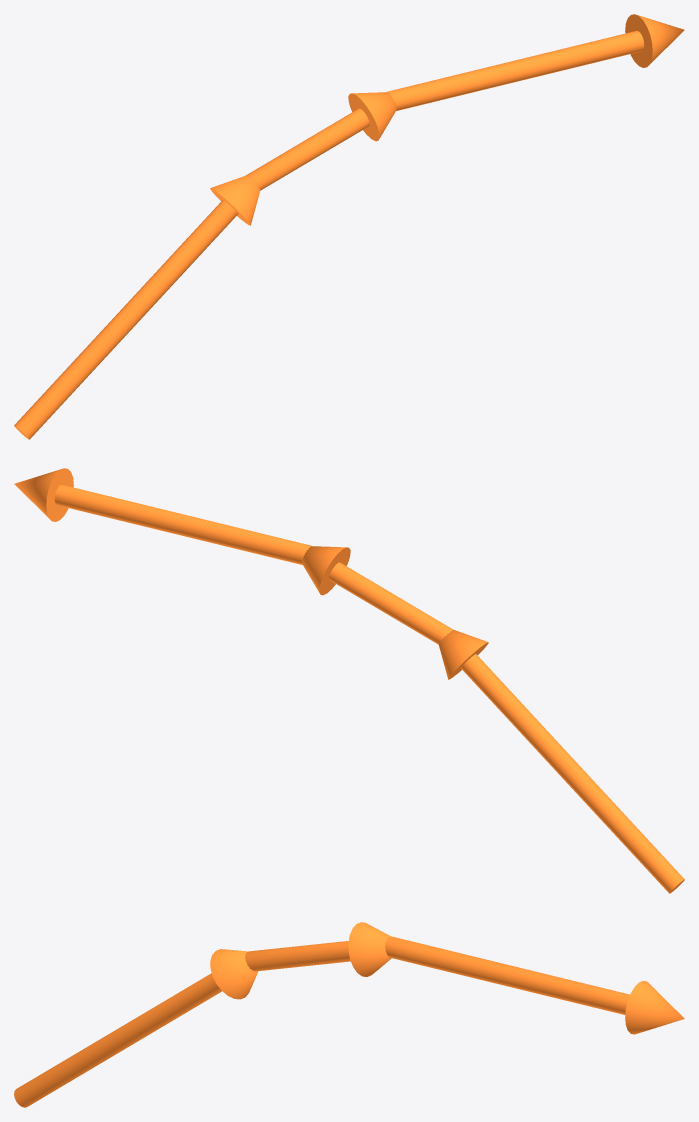
Rendered from emergency_ventilation_fan_flow.glb.
3 renders of one model, top to bottom at view 1: azimuth 30°, elevation 25°; view 2: azimuth 150°, elevation 25°; view 3: azimuth 330°, elevation 25°, orthographic.
Visible parts, largest first — view 1: extract; view 2: extract; view 3: extract.
Boxes of the visible parts, x1,y1,x2,y2 form: extract: [14, 14, 684, 439]; extract: [14, 468, 684, 893]; extract: [14, 922, 684, 1107].
Size of the model in its own units: 2.9 by 1.14 by 0.208.
